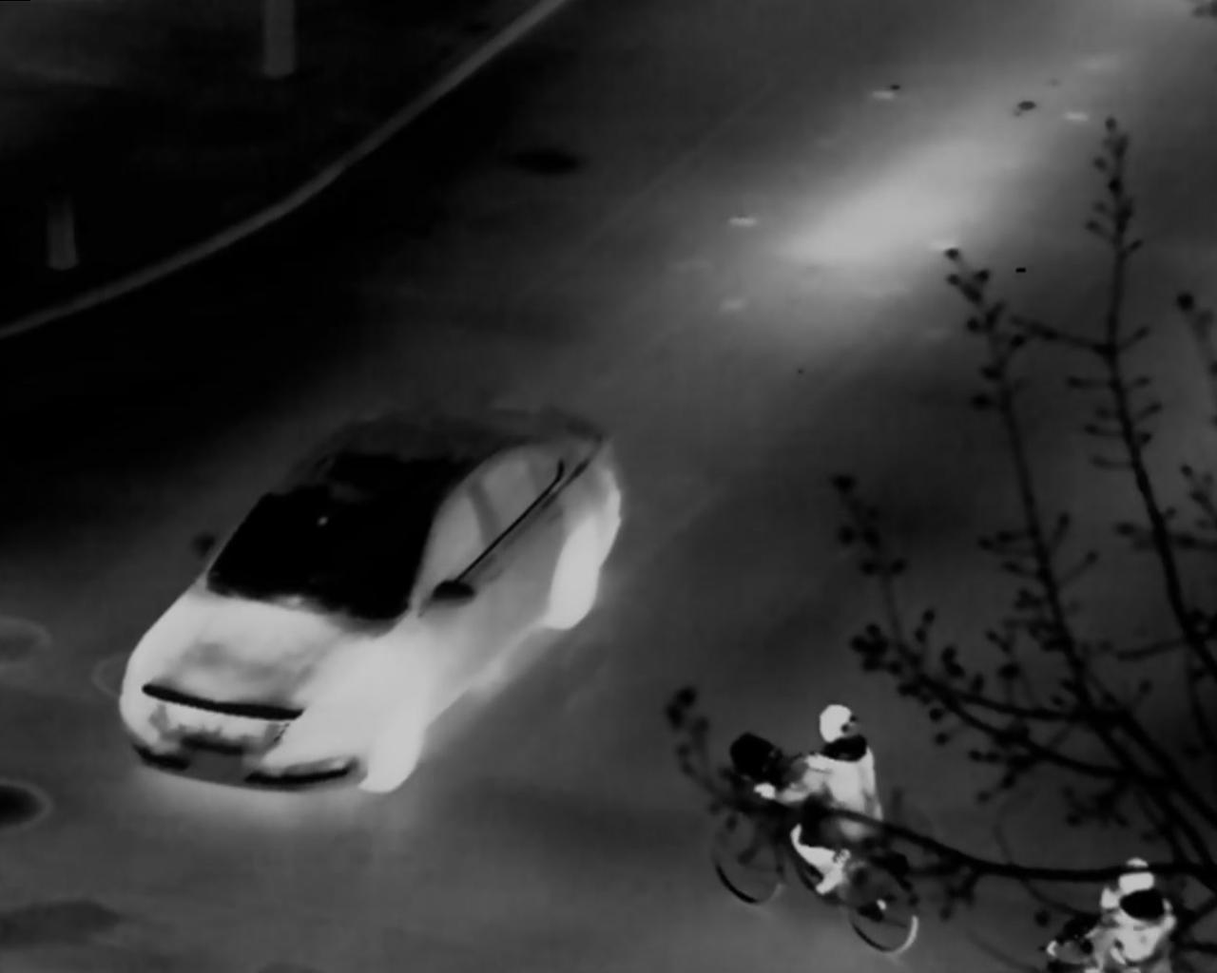person: (749, 702, 882, 896), (1044, 854, 1178, 973)
